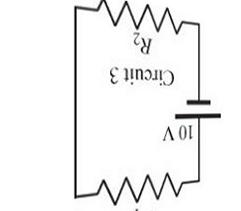Battery: (153, 91, 229, 121)
